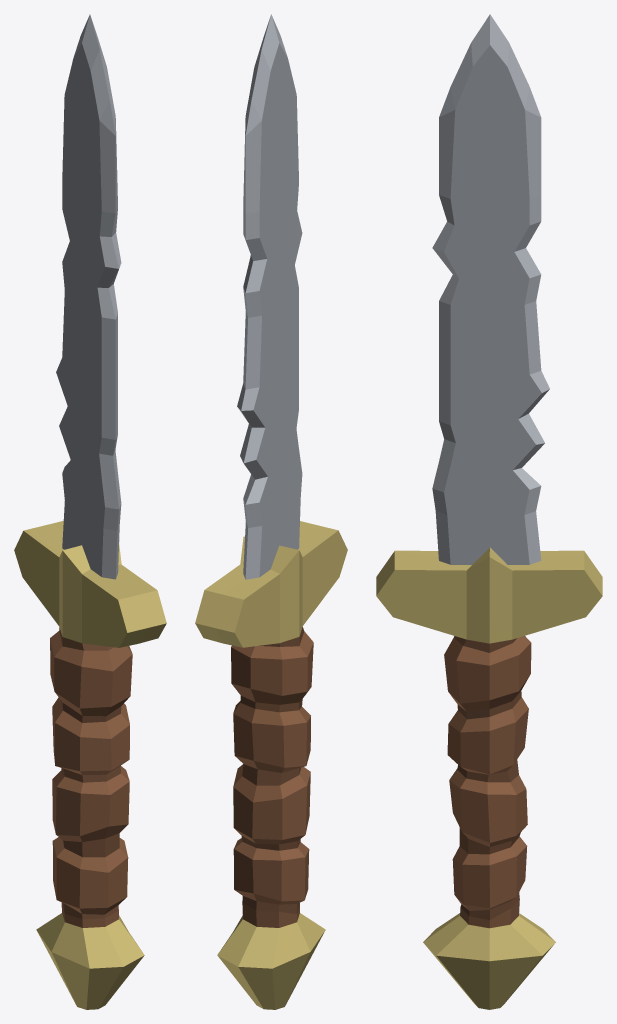
File: dagger.glb
The picture shows the model from 3 angles, left to right: view 1: azimuth 30°, elevation 25°; view 2: azimuth 150°, elevation 25°; view 3: azimuth 270°, elevation 25°; orthographic projection.
Visible parts, largest first — view 1: dagger; view 2: dagger; view 3: dagger.
Boxes of the visible parts, x1=… form: dagger: x1=14, y1=14, x2=166, y2=1009; dagger: x1=195, y1=14, x2=347, y2=1009; dagger: x1=376, y1=14, x2=602, y2=1009.
Size of the model in its own units: 0.0289 by 0.35 by 0.0726.
